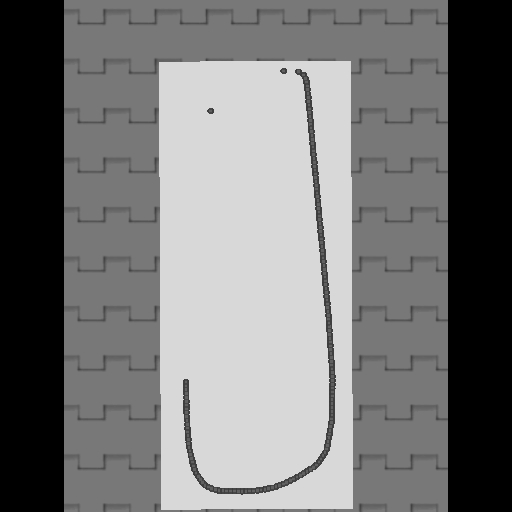Defect: (178, 116, 216, 380)
